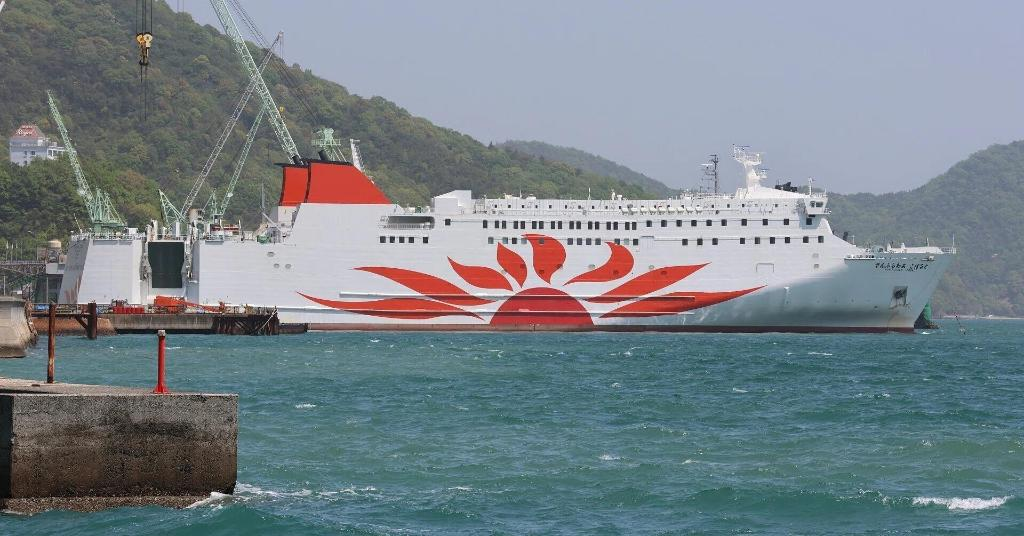PassengerShip: (56, 144, 950, 344)
